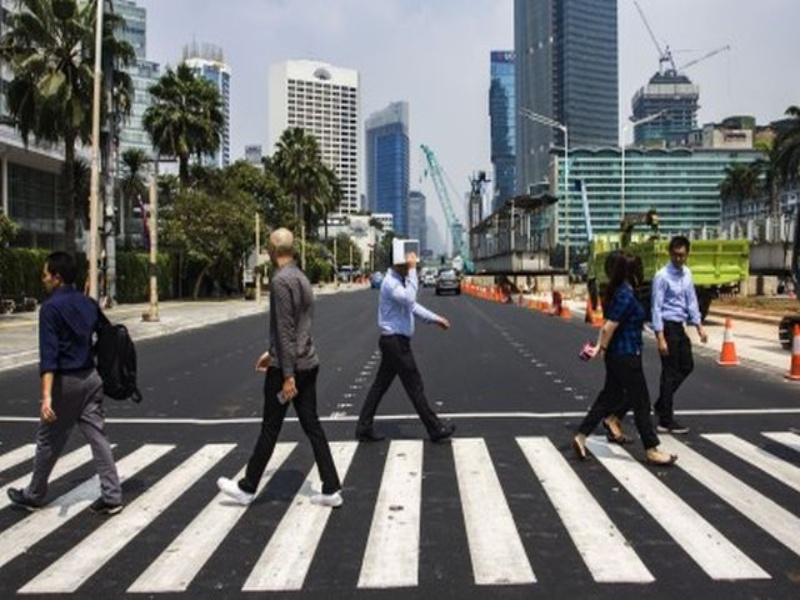zebra cross: (1, 430, 798, 596)
